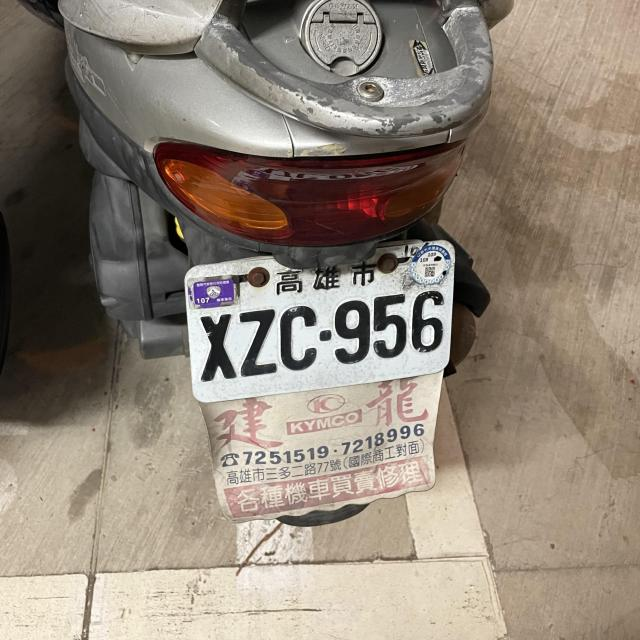W: (176, 232, 458, 406)
